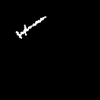double_crochet: (16, 17, 45, 37)
